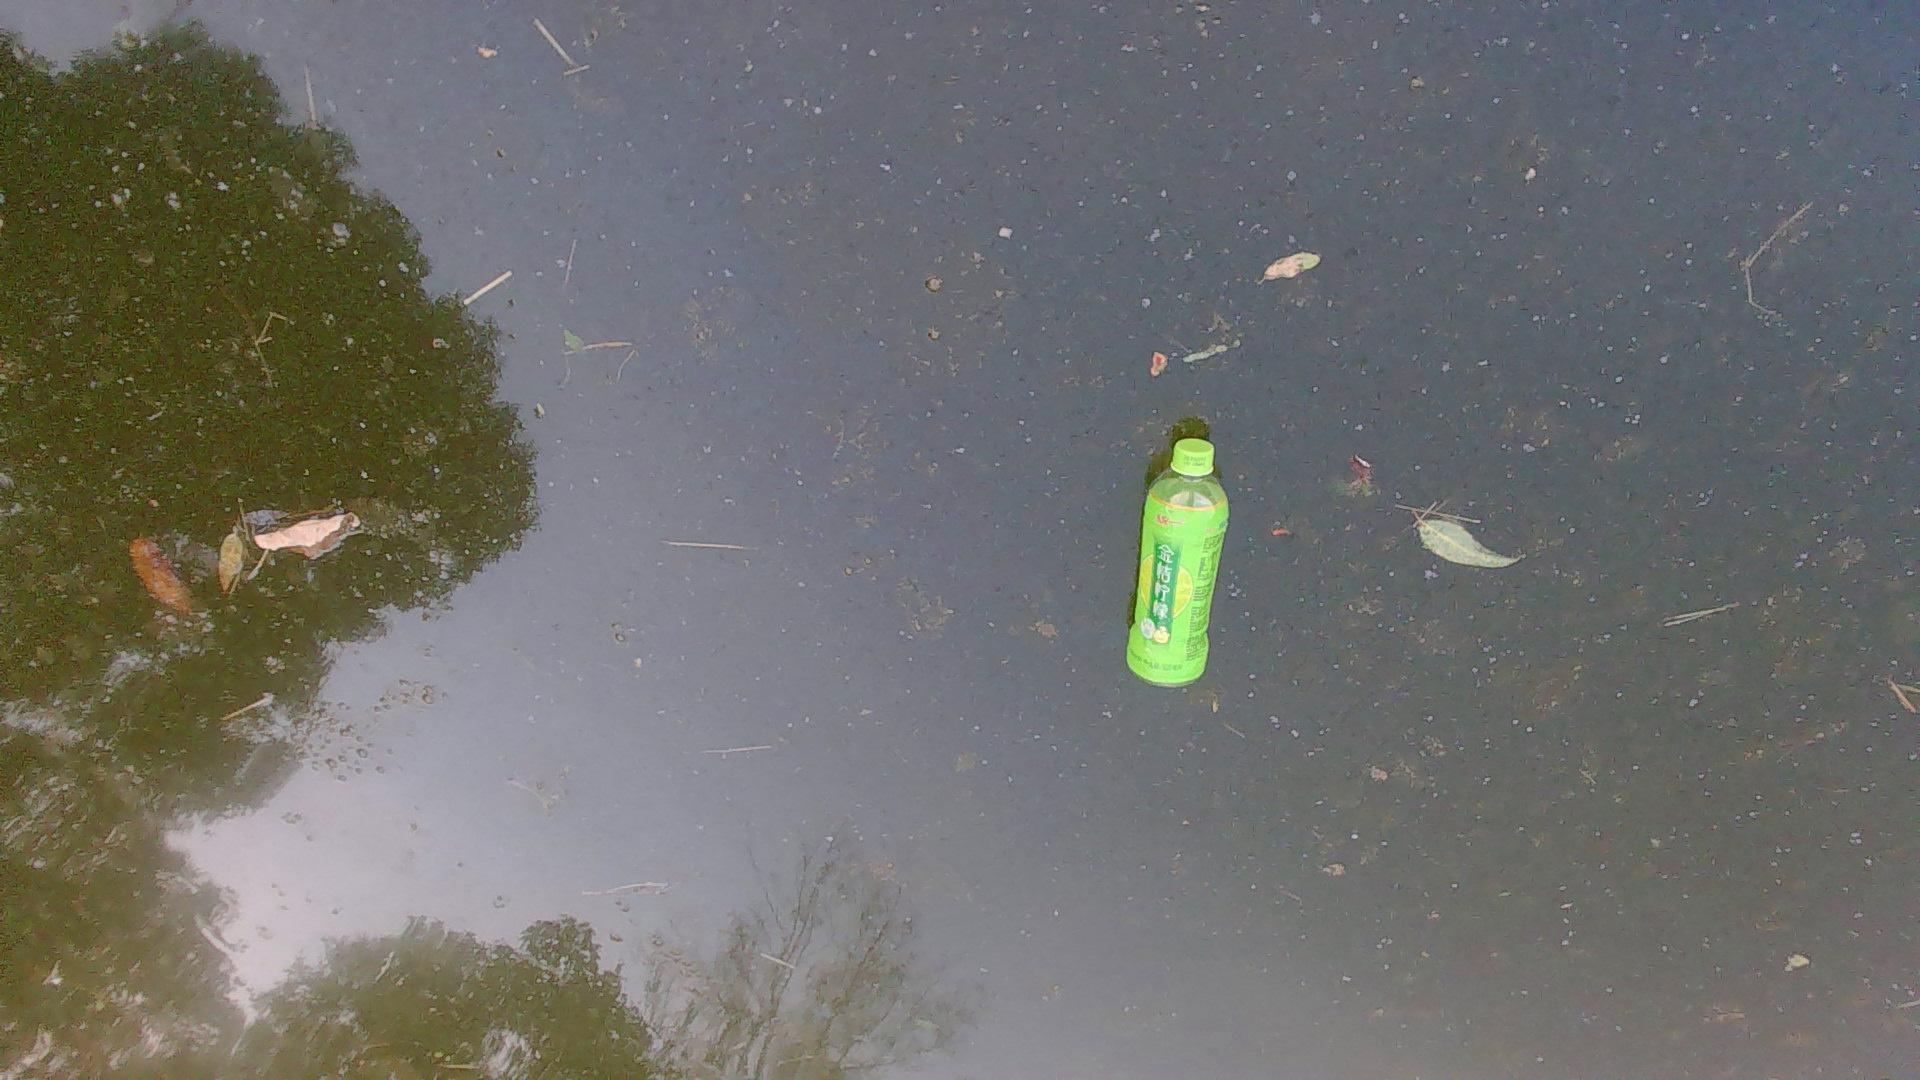Plastic: (1120, 429, 1244, 694)
